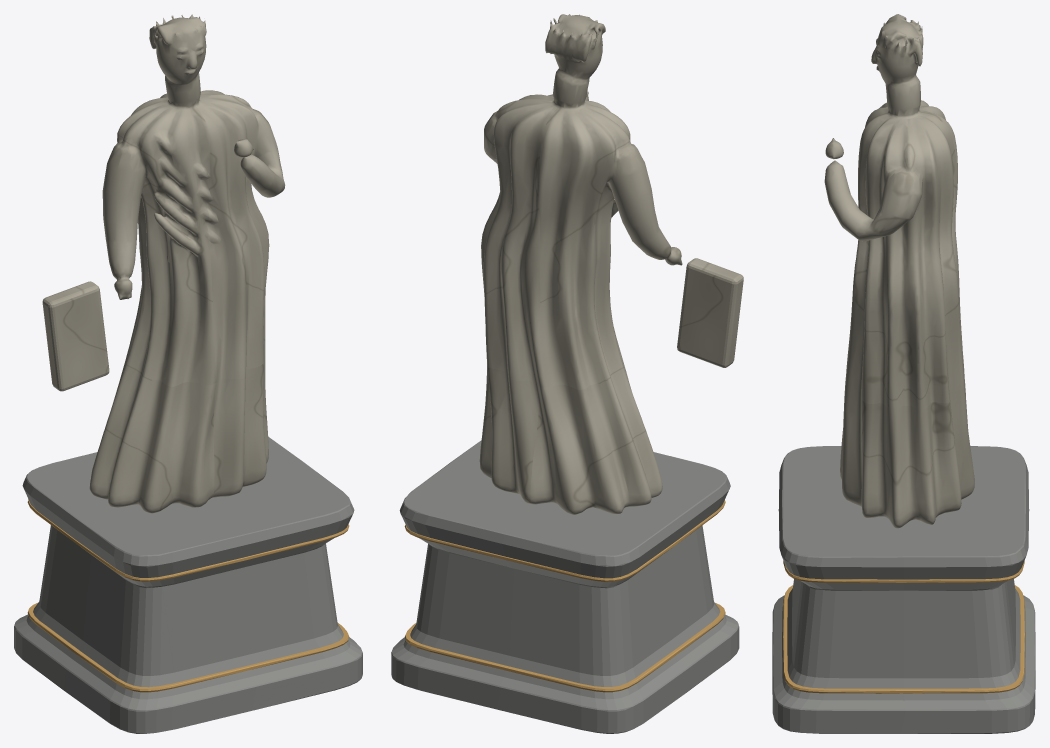
The model's file is DM_Prop_MuseumStatue_A.fbx.
3 renders of one model, left to right at view 1: azimuth 30°, elevation 25°; view 2: azimuth 150°, elevation 25°; view 3: azimuth 270°, elevation 25°, orthographic.
Parts seen in each view (by area): view 1: DM_Prop_MuseumStatue_A_Delivery_Opaque; view 2: DM_Prop_MuseumStatue_A_Delivery_Opaque; view 3: DM_Prop_MuseumStatue_A_Delivery_Opaque.
Boxes of the visible parts, <box> form: DM_Prop_MuseumStatue_A_Delivery_Opaque: <box>14,14,362,733</box>; DM_Prop_MuseumStatue_A_Delivery_Opaque: <box>391,14,743,733</box>; DM_Prop_MuseumStatue_A_Delivery_Opaque: <box>772,14,1035,733</box>.
Bounding box in the file's own units: 0.9869 × 2.16 × 0.7992.
